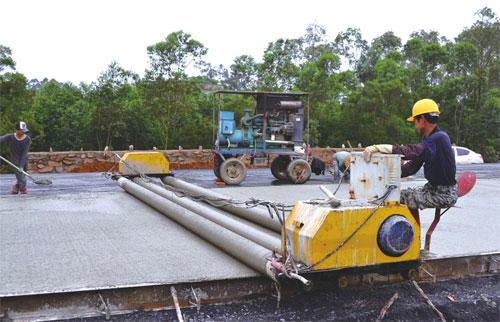gloves: (363, 143, 393, 161)
hard-hat: (406, 98, 441, 122)
person: (363, 98, 457, 208), (1, 120, 32, 194)
